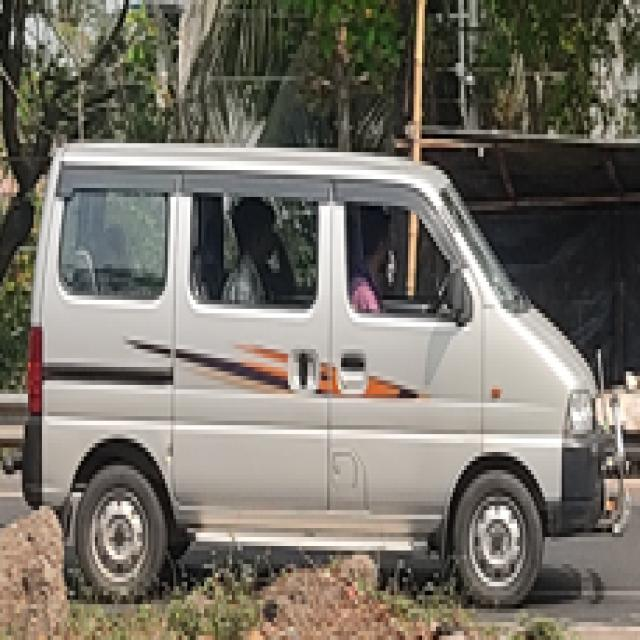van: (29, 128, 616, 616)
